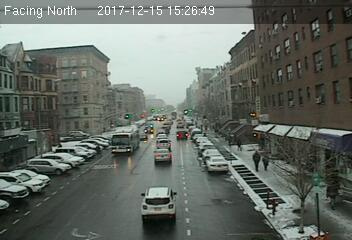bus: (111, 125, 140, 153)
car: (141, 186, 178, 222), (205, 155, 230, 173), (153, 149, 172, 163), (156, 139, 171, 149), (175, 130, 189, 140)
